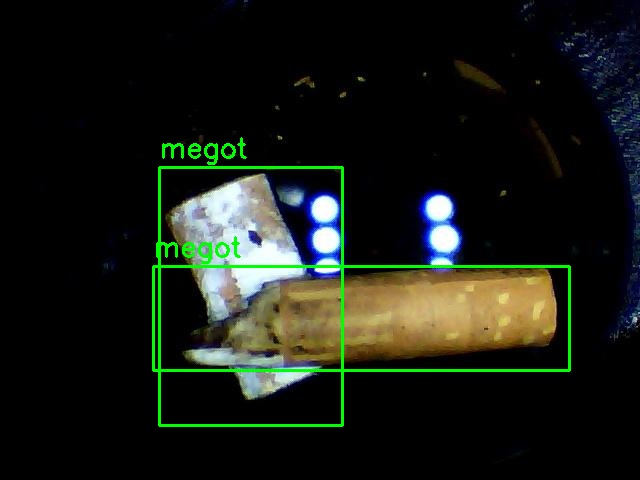megot: (159, 167, 342, 425), (153, 266, 569, 370)
